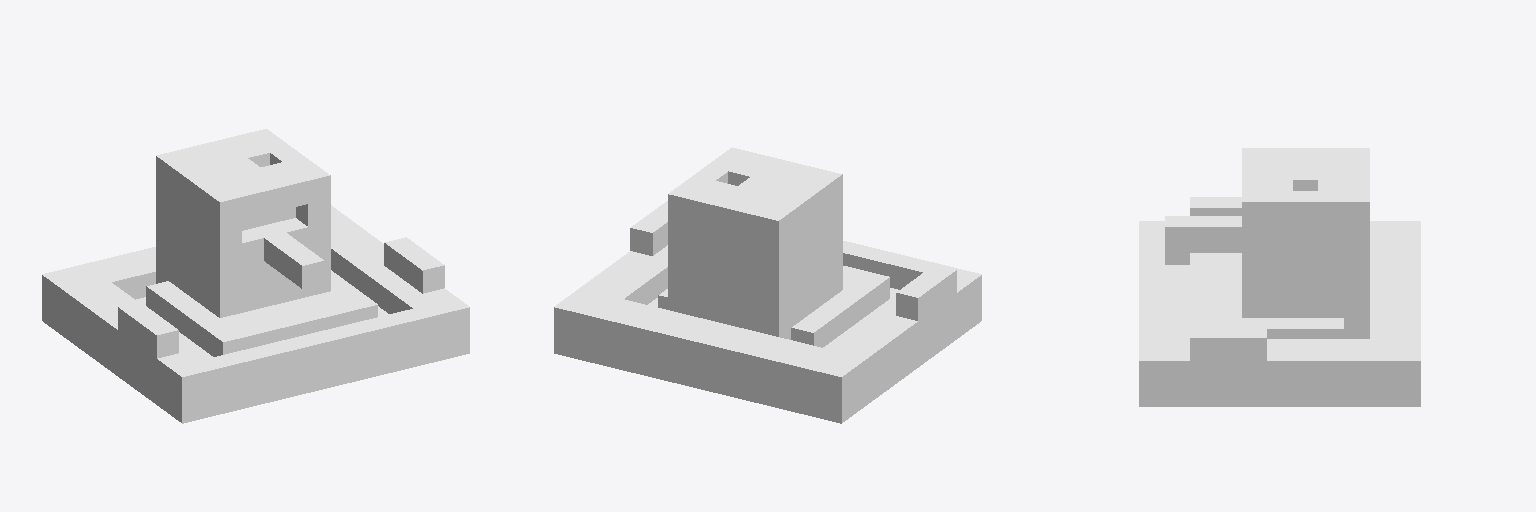
Rendered from shop_turret1.obj.
3 views of the same model, side by side, from view 1: azimuth 30°, elevation 25°; view 2: azimuth 150°, elevation 25°; view 3: azimuth 270°, elevation 25° (orthographic).
Parts seen in each view (by area): view 1: object 1; view 2: object 1; view 3: object 1.
Boxes of the visible parts, x1=… form: object 1: x1=42, y1=129, x2=469, y2=423; object 1: x1=554, y1=147, x2=981, y2=423; object 1: x1=1139, y1=148, x2=1420, y2=406.
Bounding box in the file's own units: 1.3 × 0.7 × 1.1.